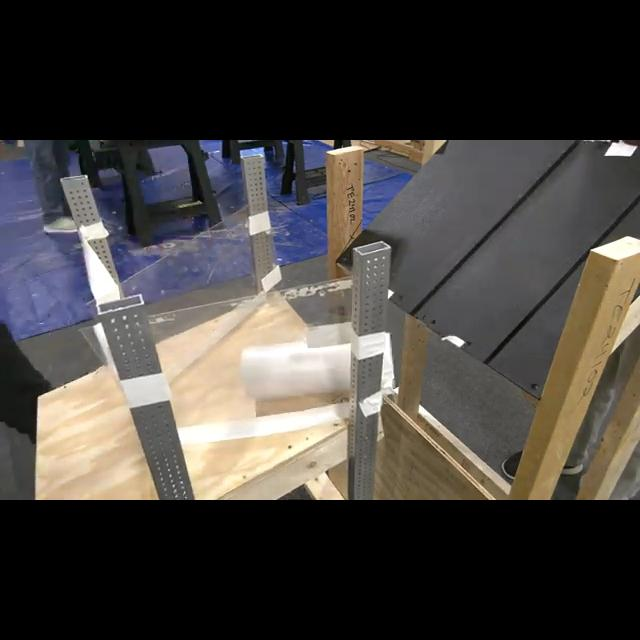CORAL: (238, 338, 394, 402)
